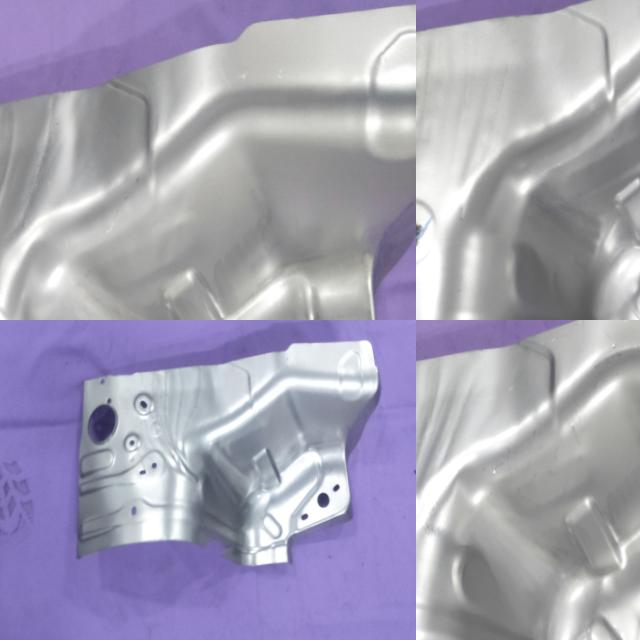Defect: (197, 532, 246, 560)
Healthy: (416, 0, 640, 320), (416, 320, 640, 640)
